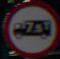Heavy Vehicles: (5, 4, 52, 45)
